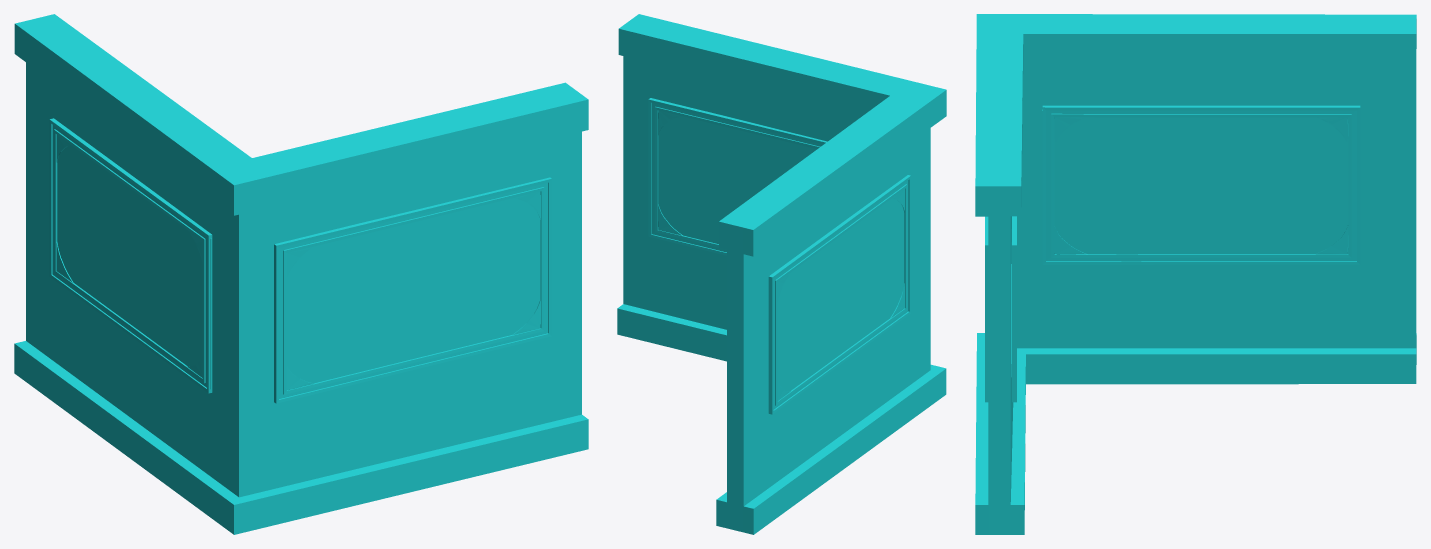
The model's file is parede_Quina.fbx.
3 renders of one model, left to right at view 1: azimuth 30°, elevation 25°; view 2: azimuth 150°, elevation 25°; view 3: azimuth 270°, elevation 25°, orthographic. The views are drawn at different scales.
Parts seen in each view (by area): view 1: parede_Quina; view 2: parede_Quina; view 3: parede_Quina.
Part boxes in pixels (box(x1,y1,x2,y2)): parede_Quina: box(14, 14, 588, 534); parede_Quina: box(617, 14, 946, 534); parede_Quina: box(975, 14, 1416, 534).
Size of the model in its own units: 424 by 400 by 459.
